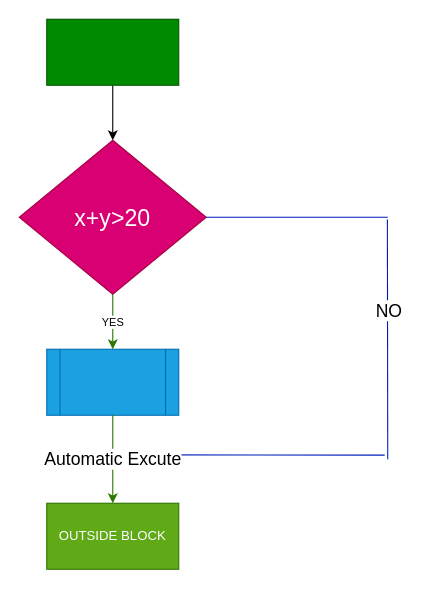
Some shapes in this 421 by 589 pixel diagram are drawn without their labels. The shapes that lost their labels are listed below. From the top down, each one's box as (x1, y1, x2, y2) in pixels, then its label:
(46, 18, 179, 85): x=10 y=12
(46, 348, 179, 415): IF BLOCK
